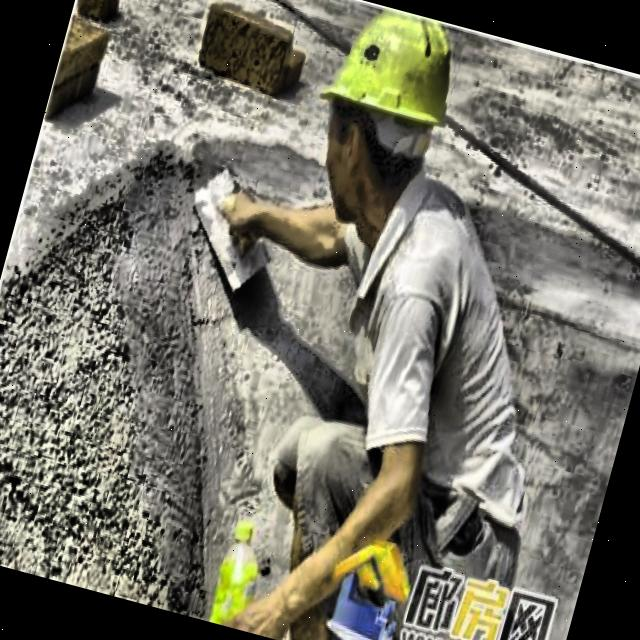helmet: (282, 0, 482, 237)
